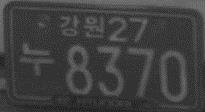0: (159, 49, 189, 102)
2: (108, 16, 129, 42)
3: (96, 46, 124, 97)
7: (126, 47, 154, 97), (130, 16, 147, 42)
8: (64, 45, 93, 95)
강원_O: (58, 14, 105, 39)
누: (19, 41, 55, 75)
